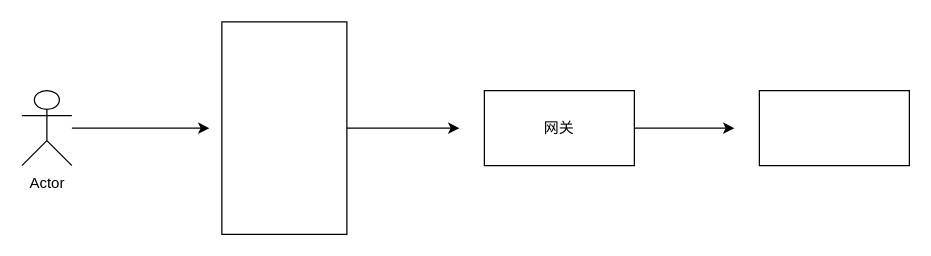
This 931x256 diagram has some shape labels left out. Here are the shapes that lost their labels. From the top down, the centre of each, then its label:
(x=284, y=127): 代理 Nginx、
(x=833, y=127): 服务
